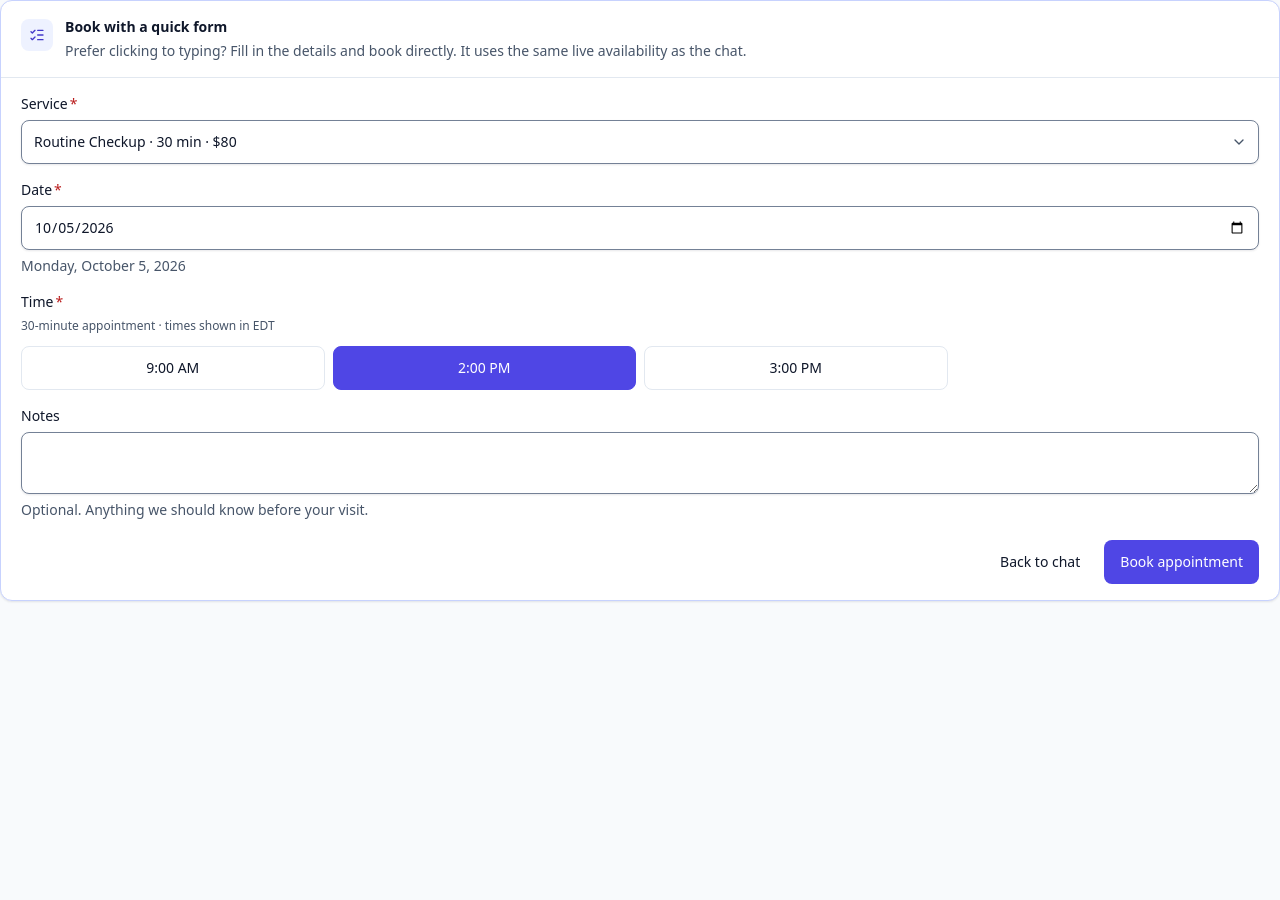
Test case: FallbackFormCard › server errors › field-level validation from the server lands next to the field
This screenshot has width=1280, height=900.
Expected: the radio button labelled "2:00 PM" is shown, 332,346 -> 636,390
Click the button "Book appointment" at (1182, 562), box 1104,540 -> 1259,584
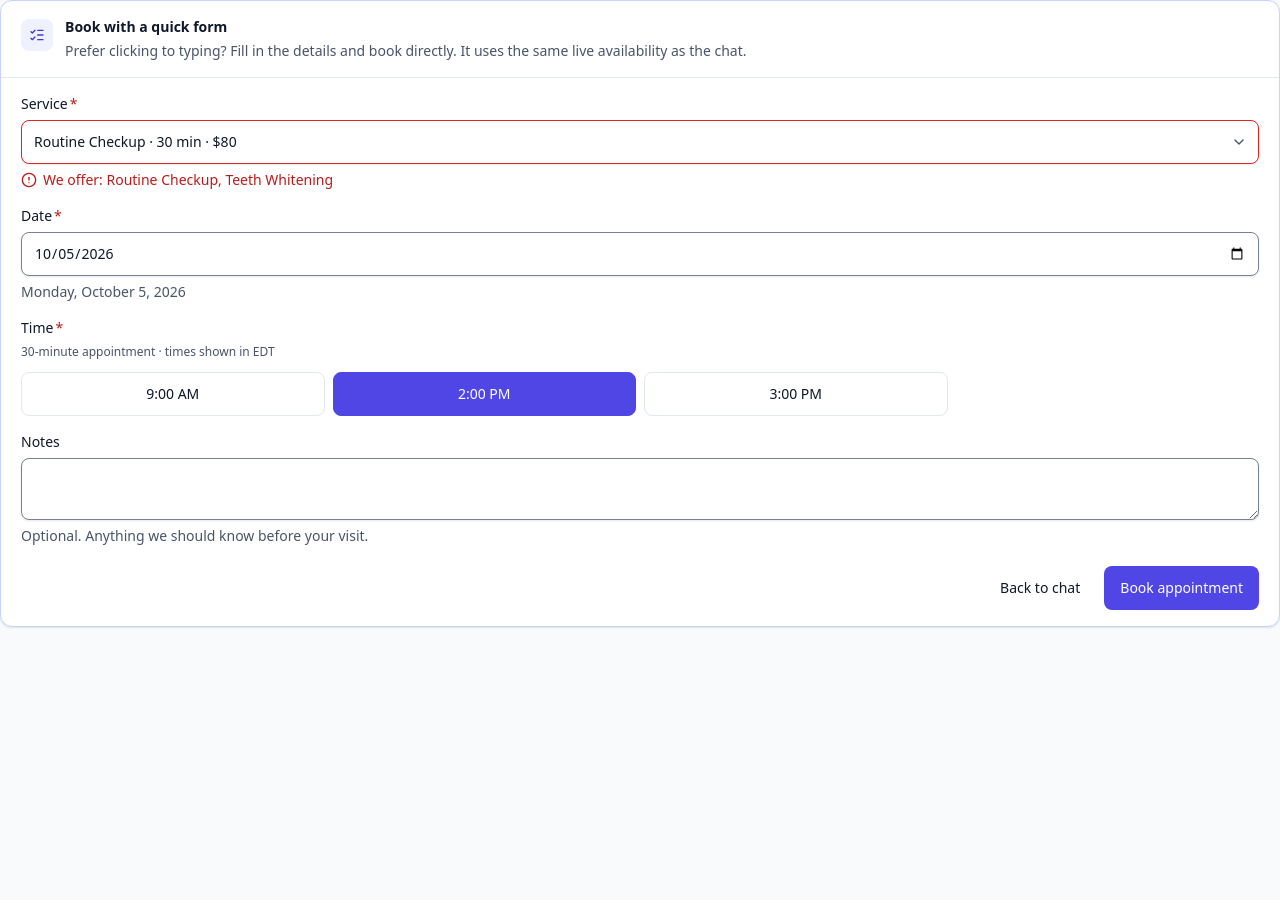
Expected: the text "We offer: Routine Checkup, Teeth Whitening" is shown, 21,170 -> 333,189
